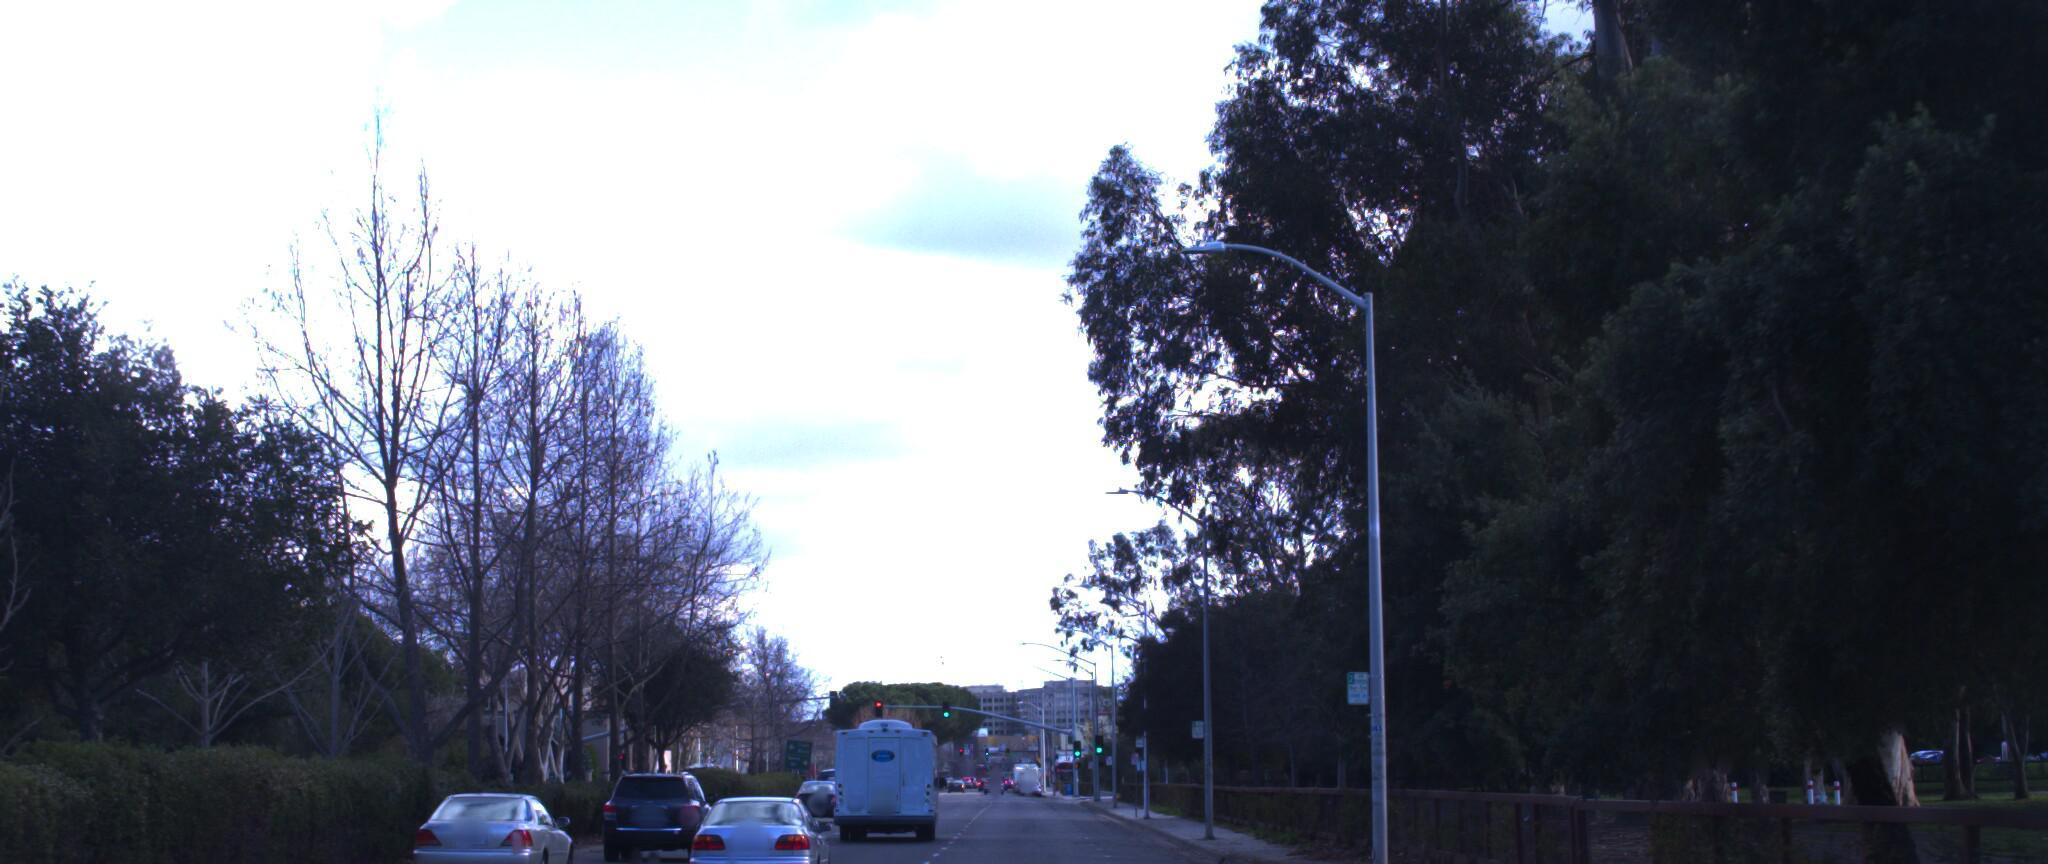bus: (831, 696, 967, 822)
car: (400, 767, 577, 864), (688, 773, 848, 864), (603, 750, 729, 844)
